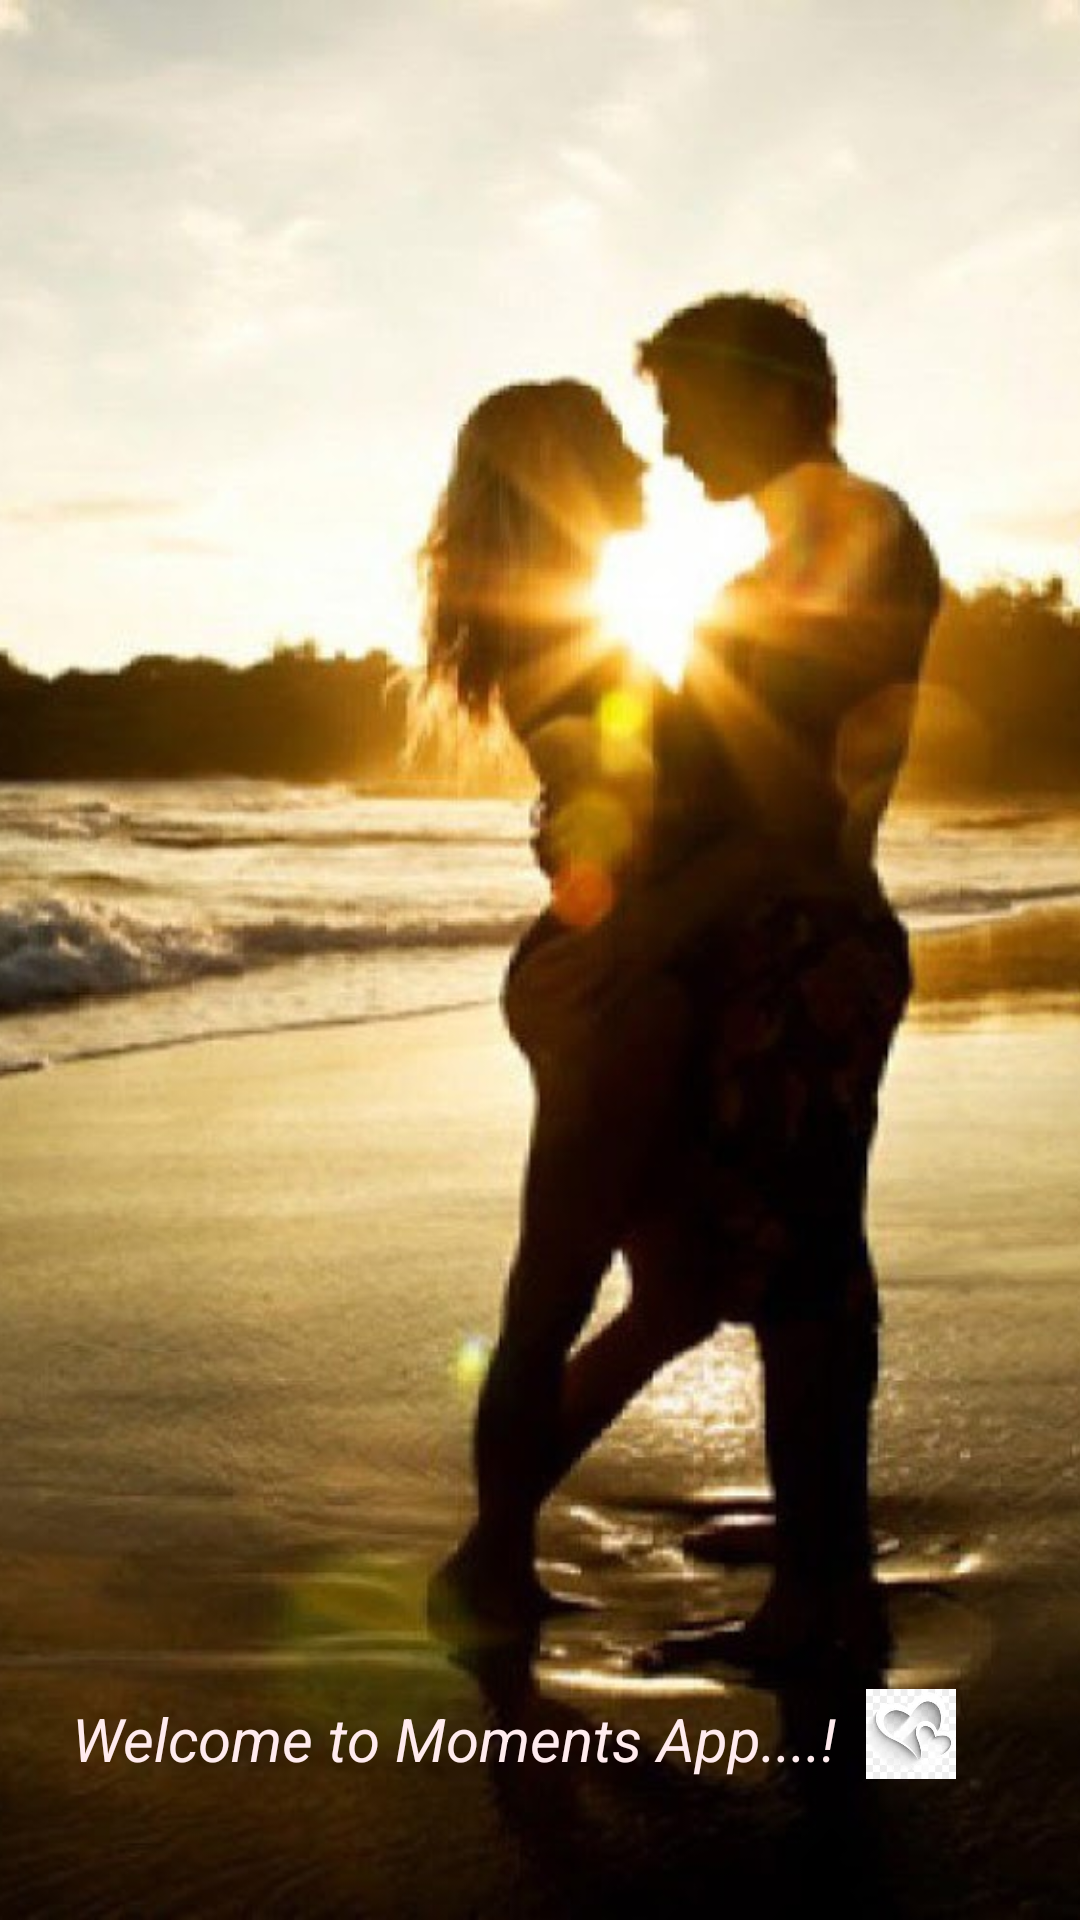

Icons on this 1080x1920 Android screen, each with its box as (x1, y1, x2, y2):
heart: (866, 1689, 956, 1779)
